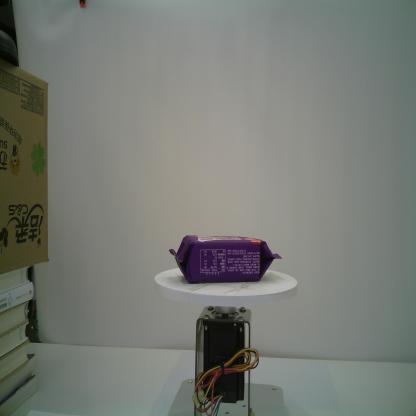Dessert: (167, 234, 285, 284)
